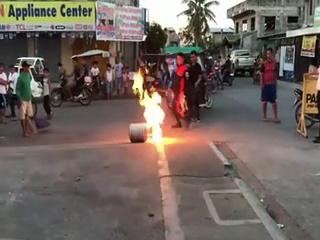Fire: (130, 66, 165, 146)
